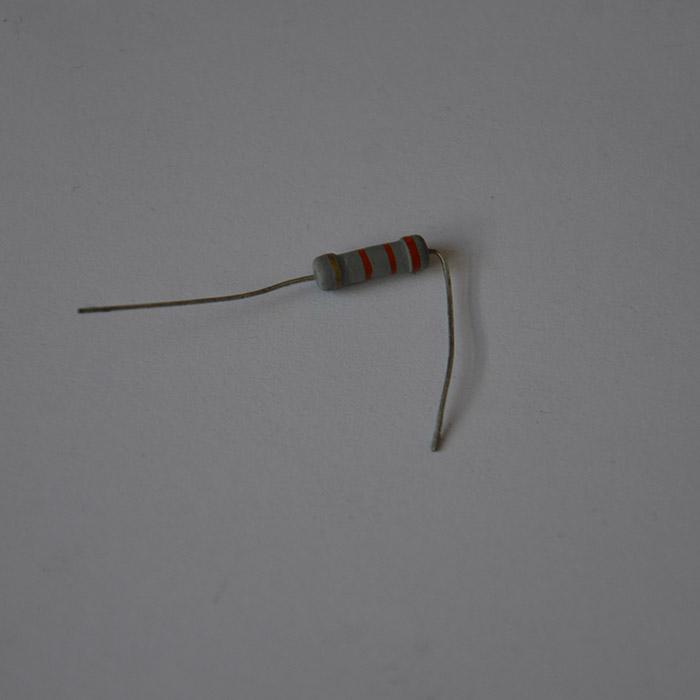resistor: (311, 231, 432, 291)
